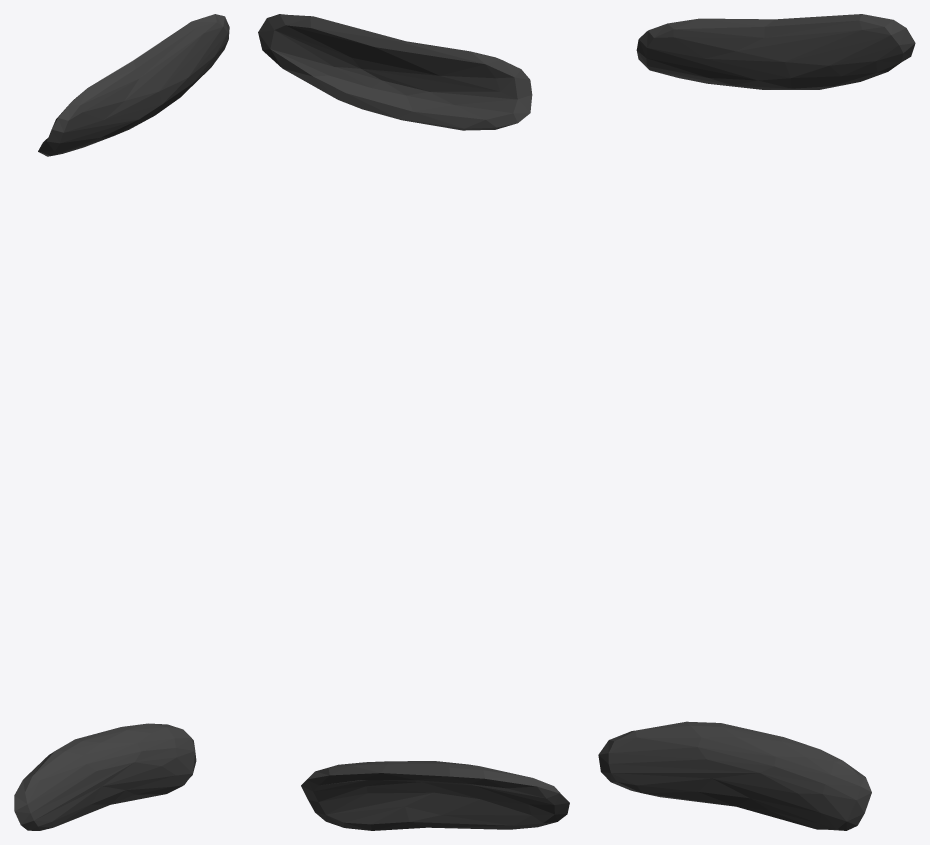
File: Pelvis_sciatic_spine.glb
3 views of the same model, side by side, from view 1: azimuth 30°, elevation 25°; view 2: azimuth 150°, elevation 25°; view 3: azimuth 330°, elevation 25° (orthographic). The views are drawn at different scales.
Visible parts, largest first — view 1: Pelvis_sciatic_spine; view 2: Pelvis_sciatic_spine; view 3: Pelvis_sciatic_spine.
Boxes of the visible parts, x1,y1,x2,y2 form: Pelvis_sciatic_spine: [14, 14, 229, 830]; Pelvis_sciatic_spine: [258, 14, 569, 830]; Pelvis_sciatic_spine: [598, 14, 915, 830].
Bounding box in the file's own units: 1.01 × 2.87 × 0.3111.
1 material, 1 textured.
